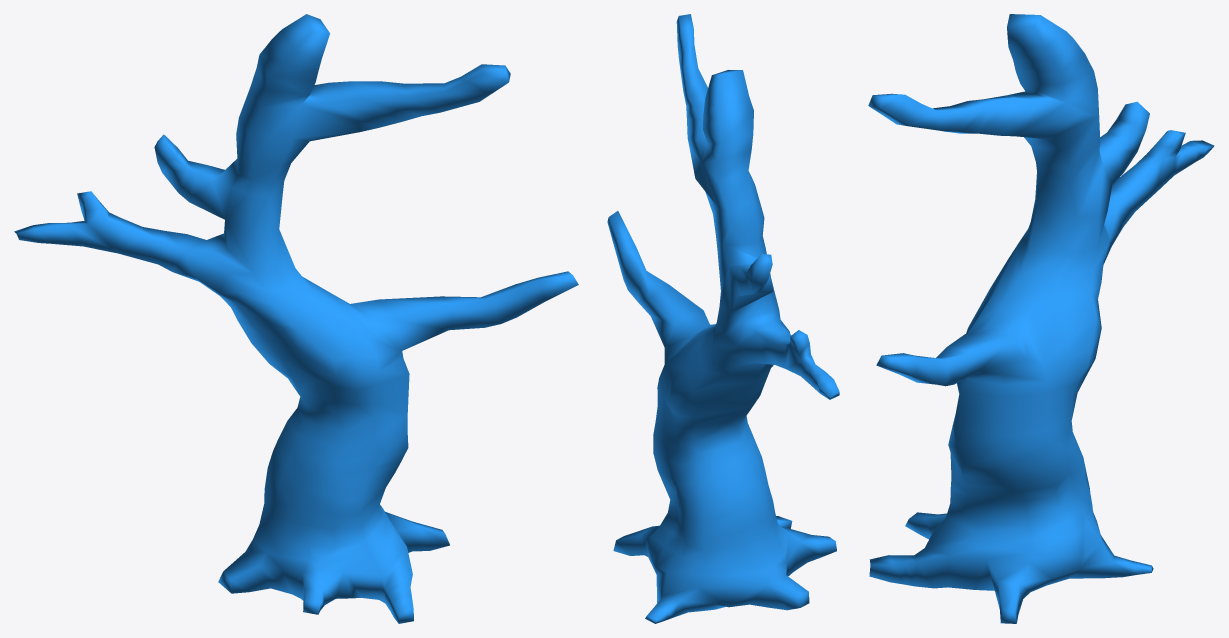
File: Tree 3_low_poly.fbx
3 renders of one model, left to right at view 1: azimuth 30°, elevation 25°; view 2: azimuth 150°, elevation 25°; view 3: azimuth 270°, elevation 25°, orthographic. The views are drawn at different scales.
Visible parts, largest first — view 1: BSurfaceMesh.002; view 2: BSurfaceMesh.002; view 3: BSurfaceMesh.002.
Part boxes in pixels (x1,y1,x2,y2): BSurfaceMesh.002: (14, 14, 578, 623); BSurfaceMesh.002: (607, 14, 839, 623); BSurfaceMesh.002: (868, 14, 1214, 623).
Size of the model in its own units: 562 by 743 by 418.
